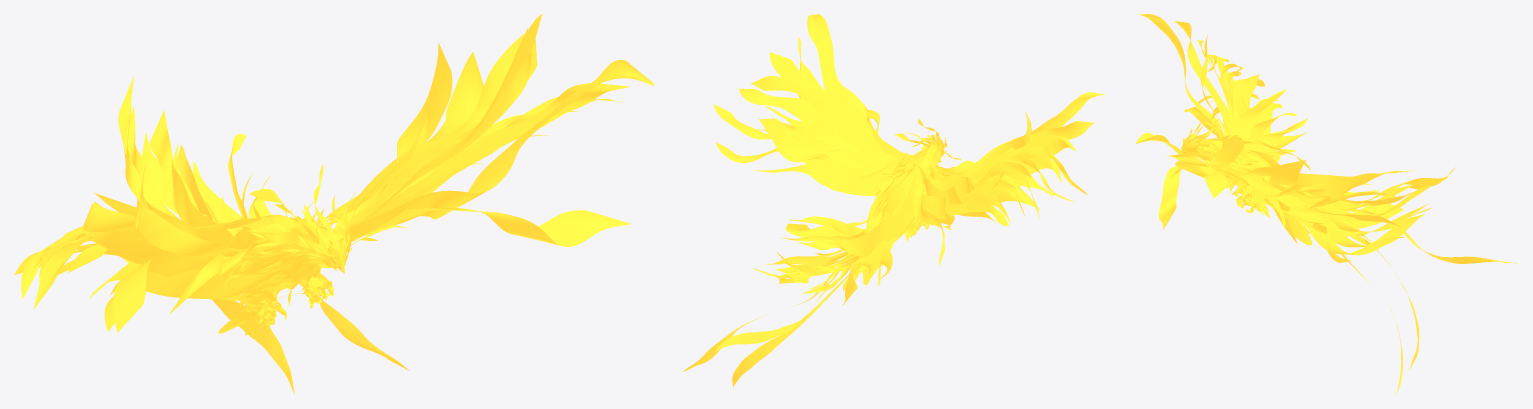
The model's file is phoenix.glb.
3 renders of one model, left to right at view 1: azimuth 30°, elevation 25°; view 2: azimuth 150°, elevation 25°; view 3: azimuth 270°, elevation 25°, orthographic. The views are drawn at different scales.
Visible parts, largest first — view 1: Material_001-material (×38); view 2: Material_001-material (×38); view 3: Material_001-material (×27).
Part boxes in pixels (x1,y1,x2,y2): Material_001-material (×38): [21, 14, 653, 394]; Material_001-material (×38): [683, 14, 1104, 391]; Material_001-material (×27): [1135, 14, 1517, 263].
Bounding box in the file's own units: 87.2 × 67.2 × 89.3.
